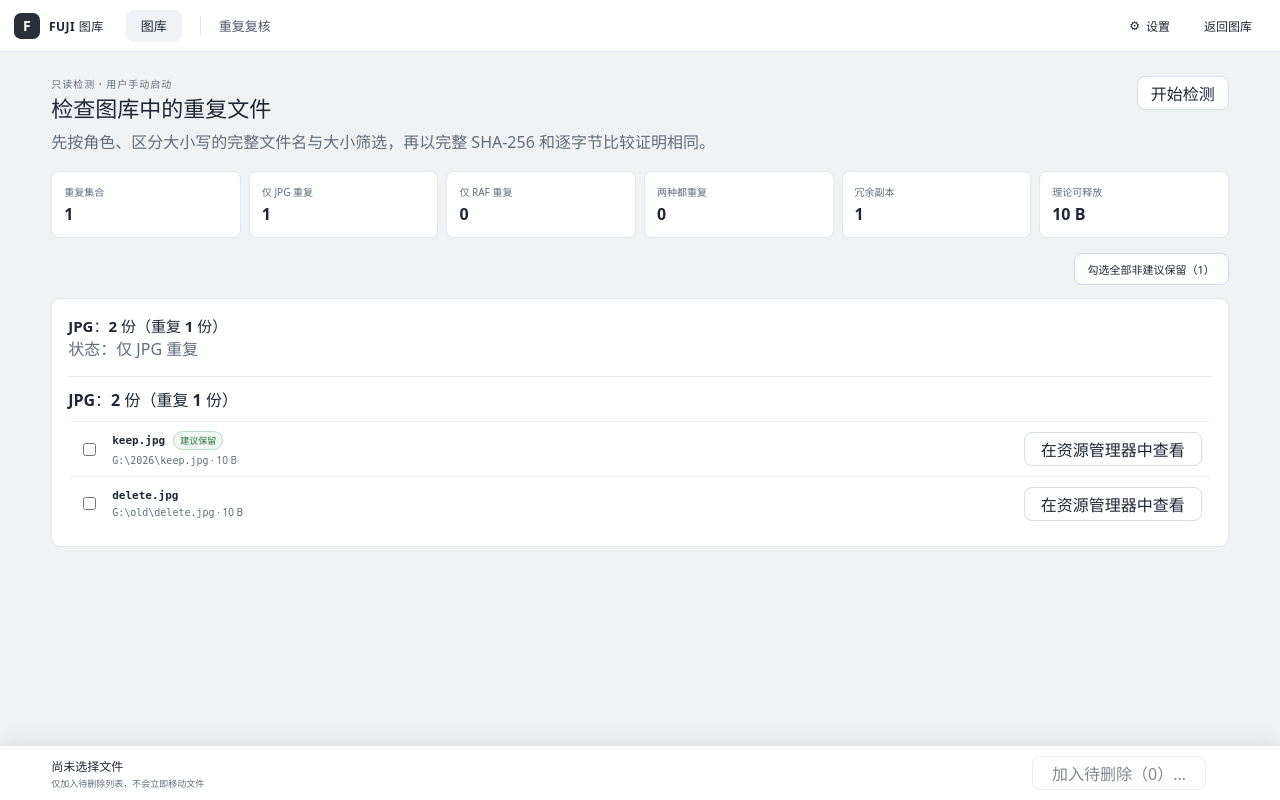
DuplicateReviewView › marks checked rows as pending delete and keeps the full path readable
Click the checkbox named "将 G:\\old\\delete.jpg 标记为待删除": point(90, 504) [83,497,96,510]
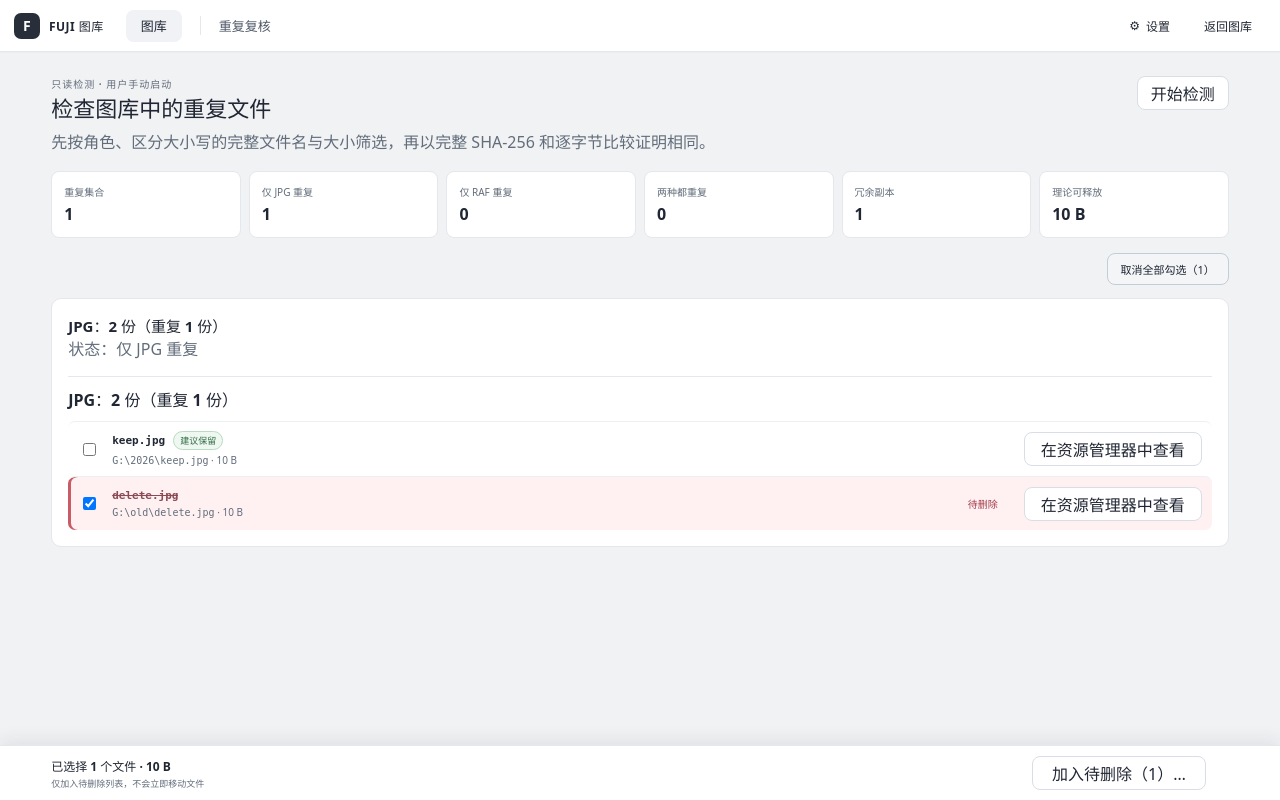
Expected: the text "delete.jpg" shows "G:\\old\\delete.jpg", [112,506,215,518]
Now the checkbox named "取消 G:\\old\\delete.jpg 的待删除标记" is checked, box [83,497,96,510]
Now the text "delete.jpg" shows "待删除", box [968,497,998,511]
